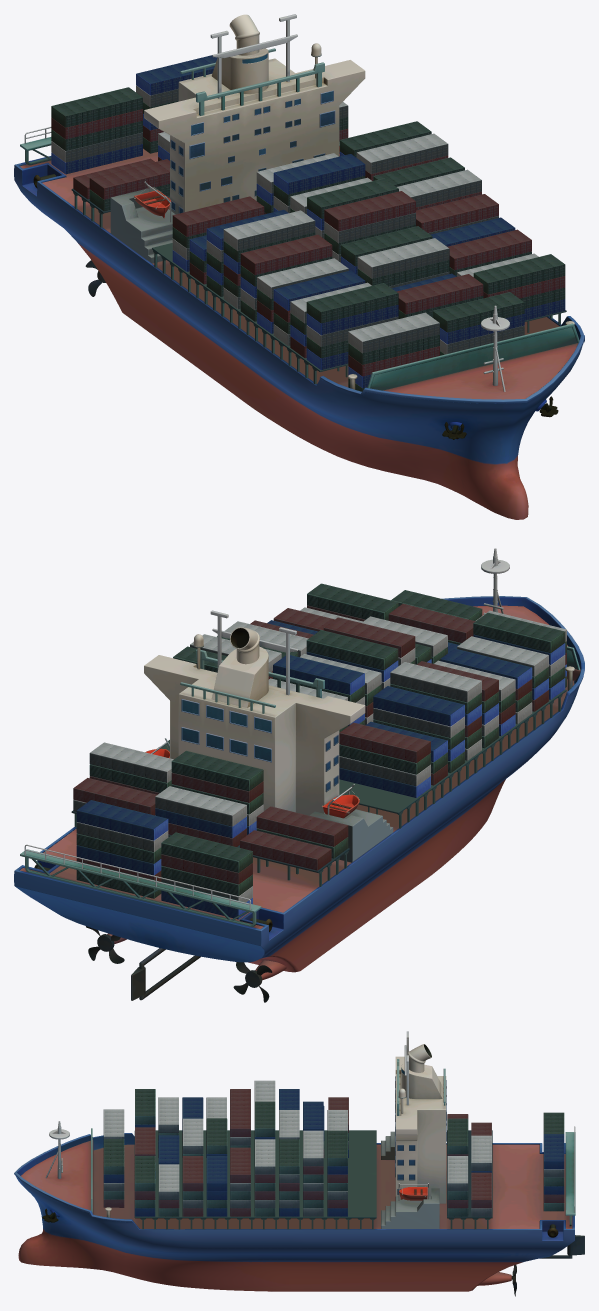
File: Ship.glb
3 renders of one model, top to bottom at view 1: azimuth 30°, elevation 25°; view 2: azimuth 150°, elevation 25°; view 3: azimuth 270°, elevation 25°, orthographic. The views are drawn at different scales.
Visible parts, largest first — view 1: mesh_id38; view 2: mesh_id38; view 3: mesh_id38.
Part boxes in pixels (left/top/right/bottom): mesh_id38: left=14, top=14, right=584, bottom=519; mesh_id38: left=14, top=548, right=584, bottom=1002; mesh_id38: left=14, top=1031, right=584, bottom=1296.
Size of the model in its own units: 872 by 1024 by 2390.
1 material, 1 textured.
